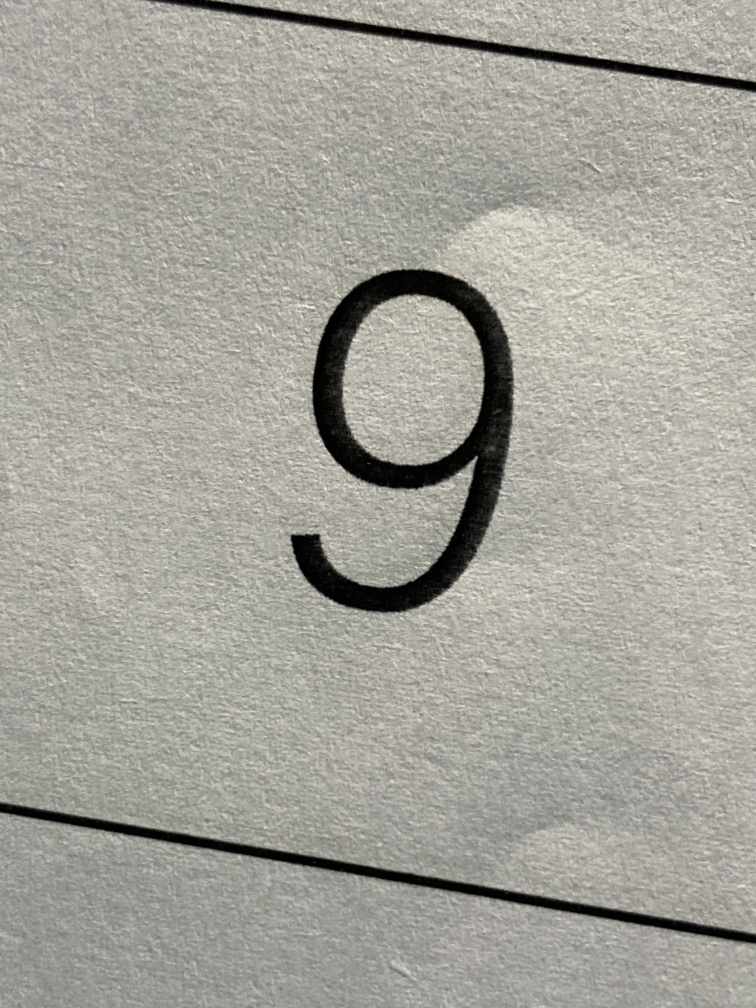nine: (226, 215, 577, 714)
